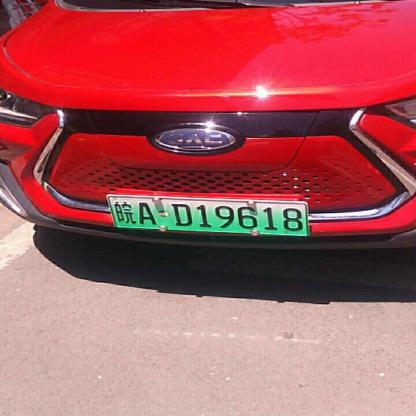lp: (107, 195, 310, 236)
